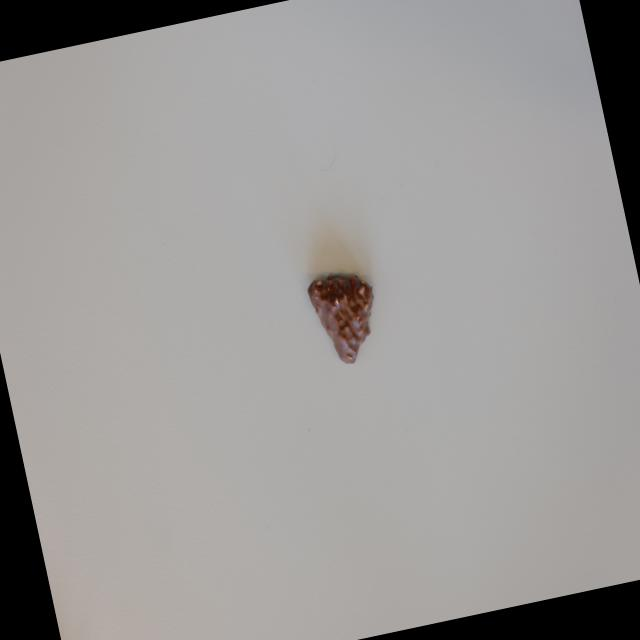Triangolo: (304, 266, 386, 369)
